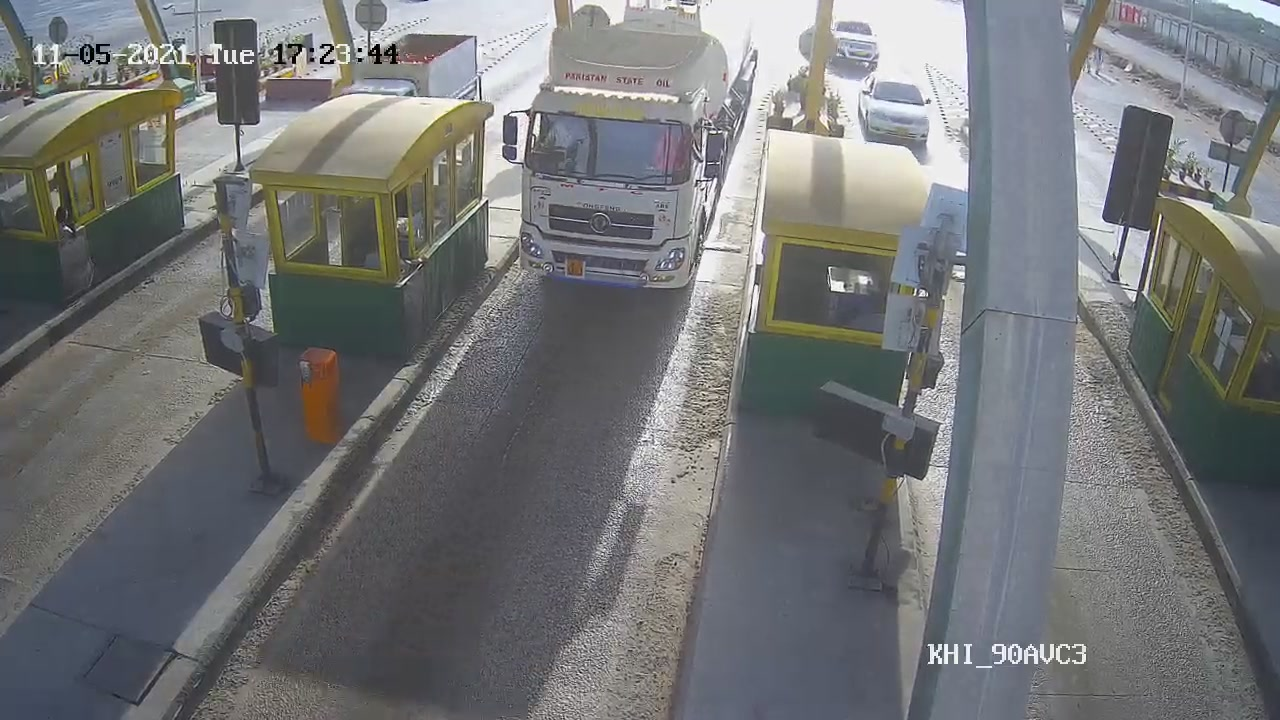F6: (512, 1, 754, 306)
